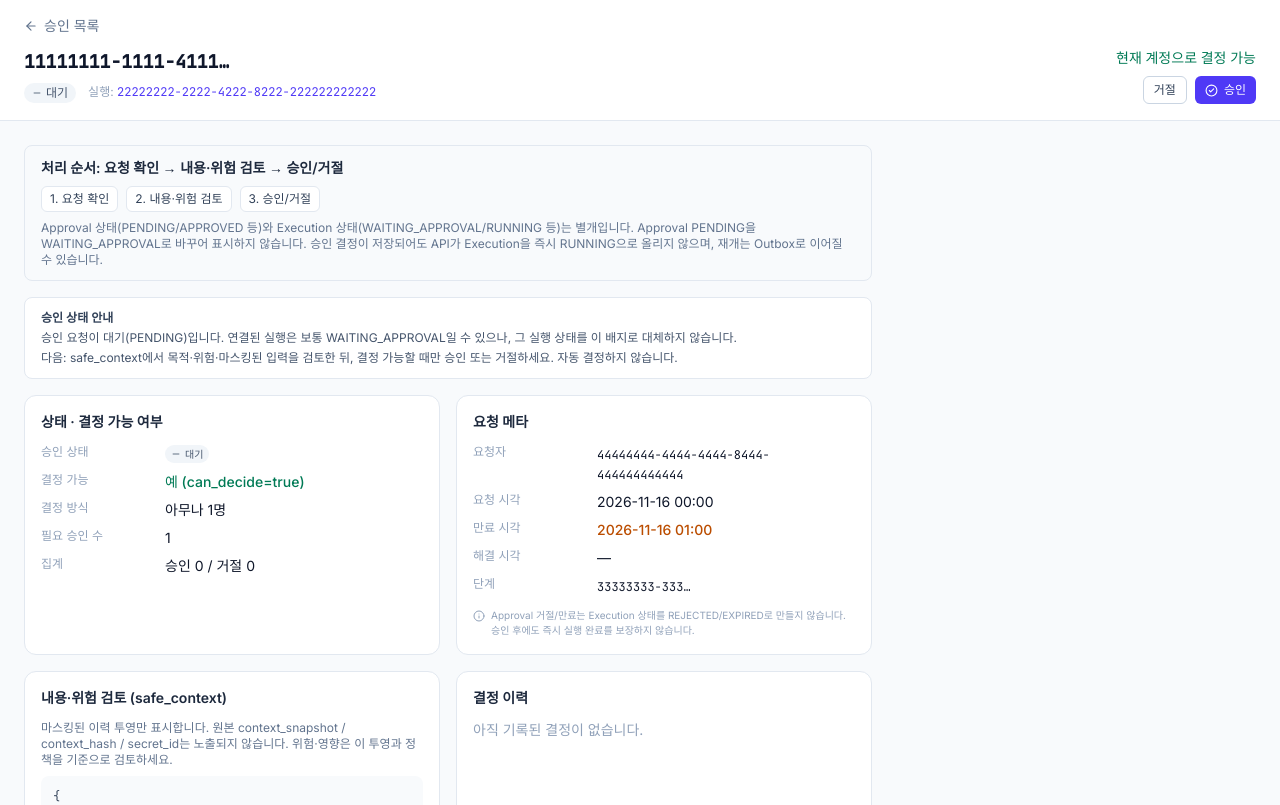
Scenario: ApprovalDetail decide (phase 2) › keeps decide buttons hidden when quiet GET refresh fails after success
The image size is (1280, 805).
Expected: the text "현재 계정으로 결정 가능" is shown, left=1116, top=48, right=1256, bottom=68
Click the button "승인".
click(1225, 90)  # box left=1195, top=76, right=1256, bottom=104
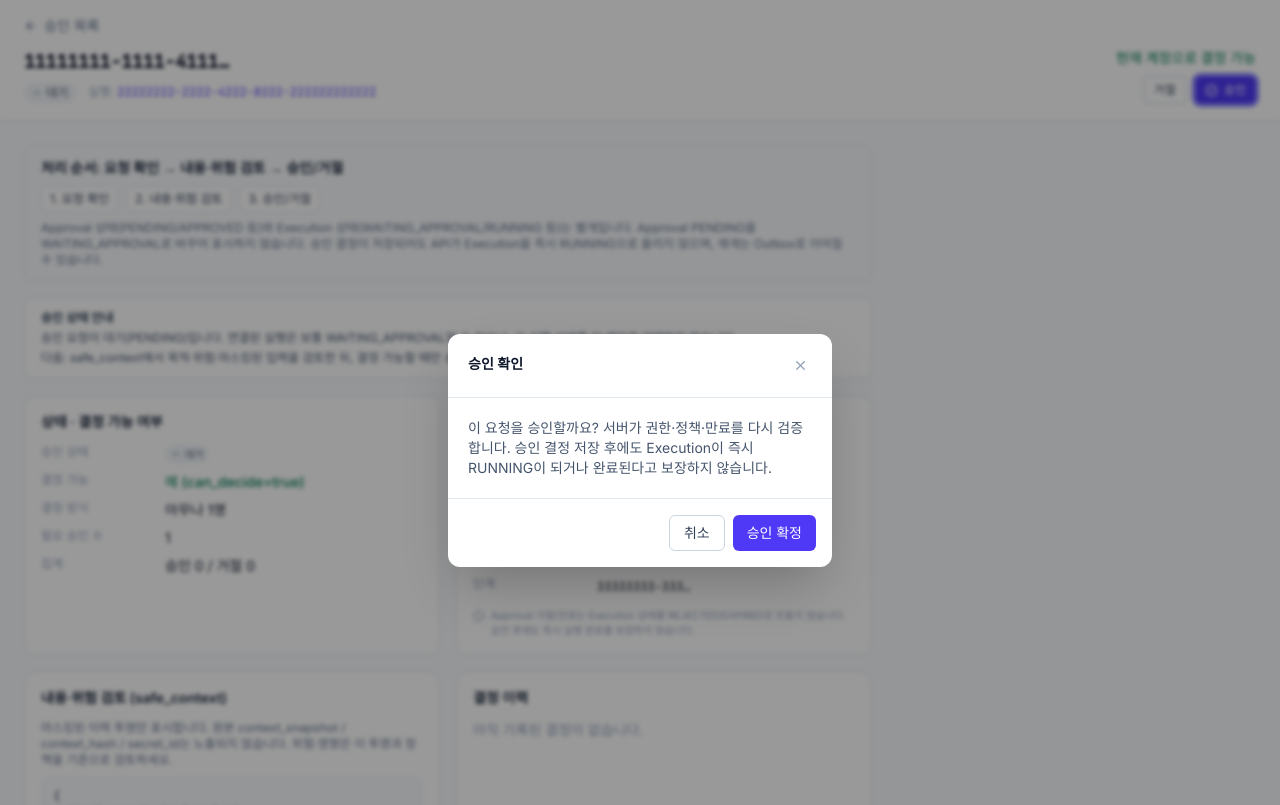
Click the button "승인 확정".
click(774, 532)  # box left=733, top=514, right=816, bottom=550
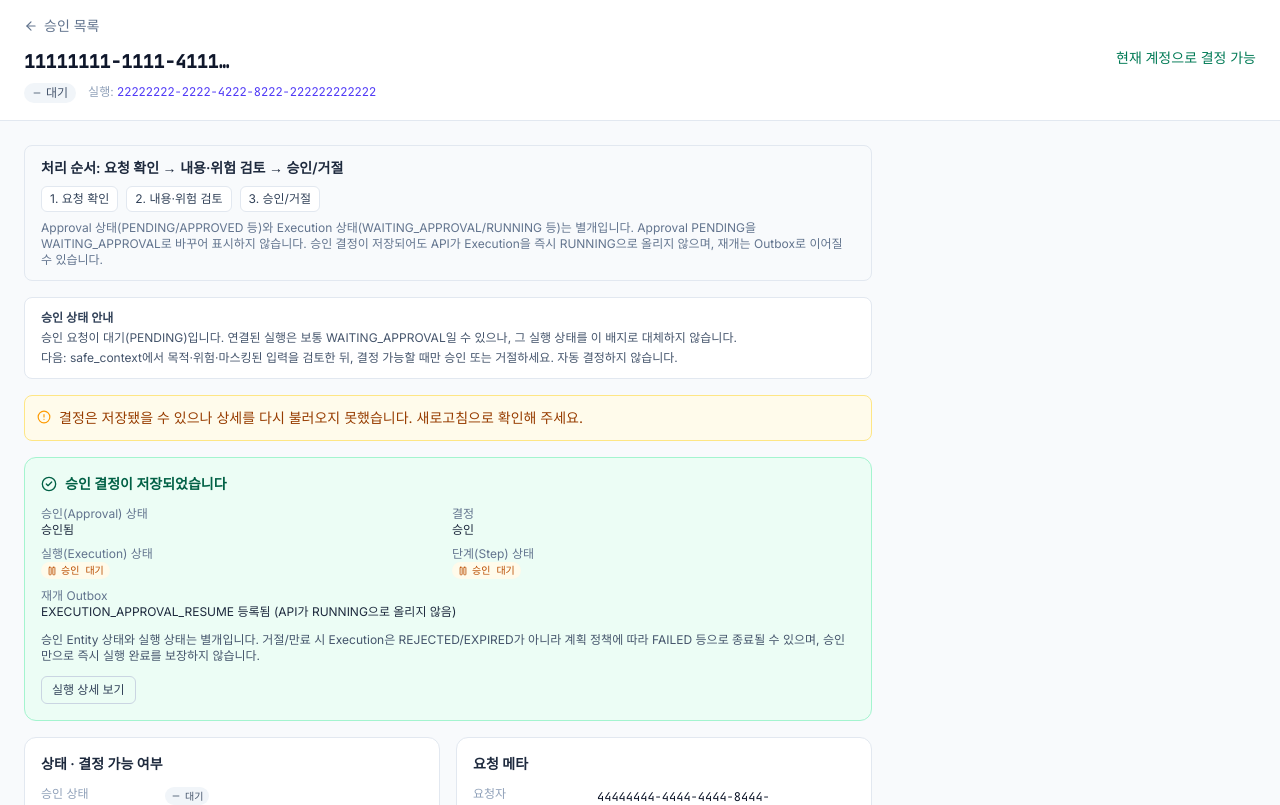
Expected: the text "승인 결정이 저장되었습니다" is shown, left=41, top=475, right=227, bottom=492
Expected: the text "결정은 저장됐을 수 있으나 상세를 다시 불러오지 못했습니다. 새로고침으로 확인해 주세요." is shown, left=59, top=408, right=583, bottom=428
